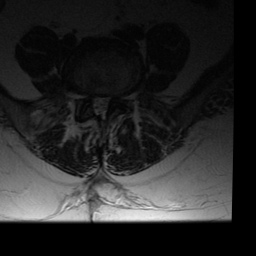CCS_normal: (97, 91, 103, 122)
LFS_severe_stenosis: (111, 90, 119, 109)
LLS_normal: (104, 91, 110, 110)
RFS_severe_stenosis: (84, 90, 91, 106)
RLS_stenosis: (91, 91, 97, 115)
